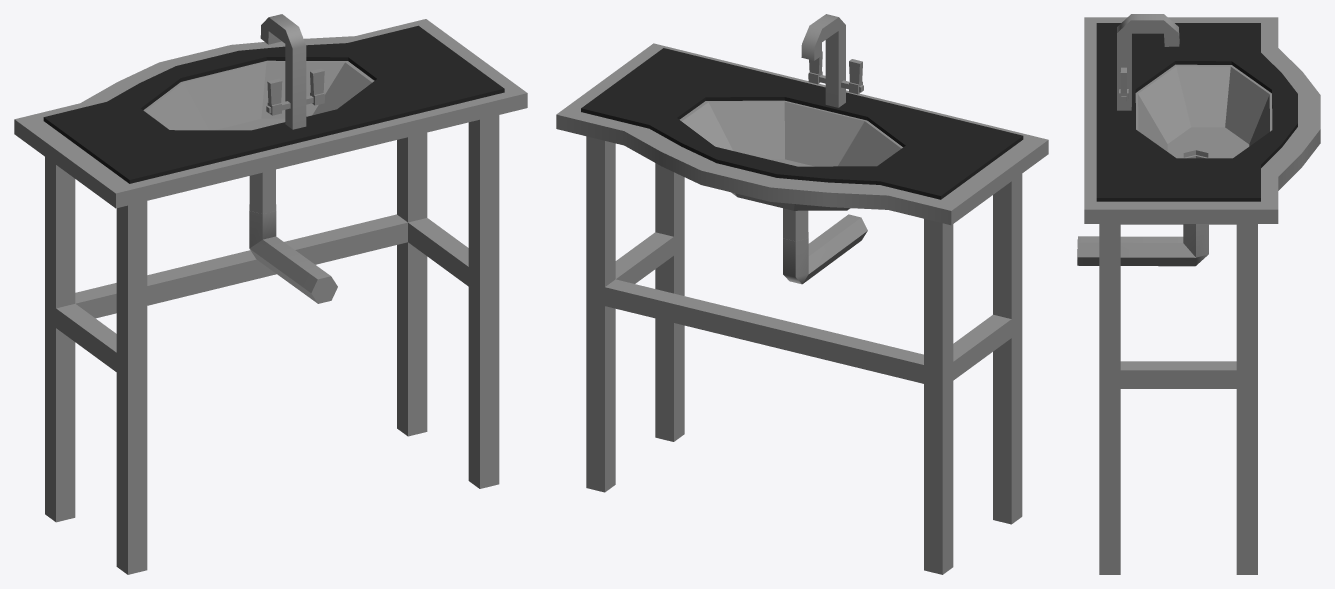
File: f_bathroom_sink.fbx
3 renders of one model, left to right at view 1: azimuth 30°, elevation 25°; view 2: azimuth 150°, elevation 25°; view 3: azimuth 270°, elevation 25°, orthographic. The views are drawn at different scales.
Visible parts, largest first — view 1: sink, indent, leg3, leg, leg1, leg2, pipe, tap, water_pipe; view 2: sink, indent, leg3, leg2, leg, leg1, pipe, tap, water_pipe; view 3: sink, indent, leg2, leg1, pipe, tap.
Part boxes in pixels (x1,y1,x2,y2): sink: [14, 19, 527, 208]; indent: [43, 25, 504, 183]; leg3: [45, 157, 407, 522]; leg: [55, 201, 147, 574]; leg1: [468, 115, 499, 488]; leg2: [397, 132, 469, 436]; pipe: [249, 204, 337, 303]; tap: [260, 14, 306, 129]; water_pipe: [249, 169, 275, 213]; sink: [556, 43, 1048, 225]; indent: [581, 48, 1023, 199]; leg3: [604, 218, 953, 574]; leg2: [586, 136, 673, 492]; leg: [952, 174, 1022, 524]; leg1: [655, 163, 684, 441]; pipe: [783, 214, 867, 284]; tap: [801, 14, 845, 107]; water_pipe: [783, 208, 808, 241]; sink: [1084, 17, 1320, 223]; indent: [1096, 23, 1297, 201]; leg2: [1119, 224, 1257, 574]; leg1: [1099, 224, 1120, 574]; pipe: [1077, 224, 1208, 266]; tap: [1117, 14, 1179, 110].
Size of the model in its own units: 114 by 130 by 61.08.
1 material, 1 textured.
